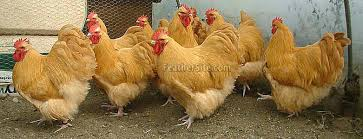buff: (10, 38, 37, 66), (173, 2, 195, 30), (149, 30, 176, 51), (83, 10, 105, 29), (203, 6, 222, 26), (85, 26, 104, 44), (267, 15, 286, 31), (135, 14, 148, 29)
